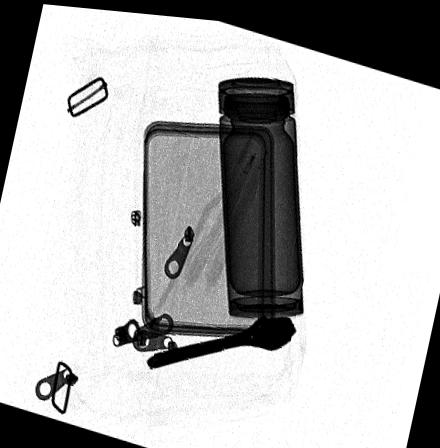Wrench: (144, 308, 298, 364)
